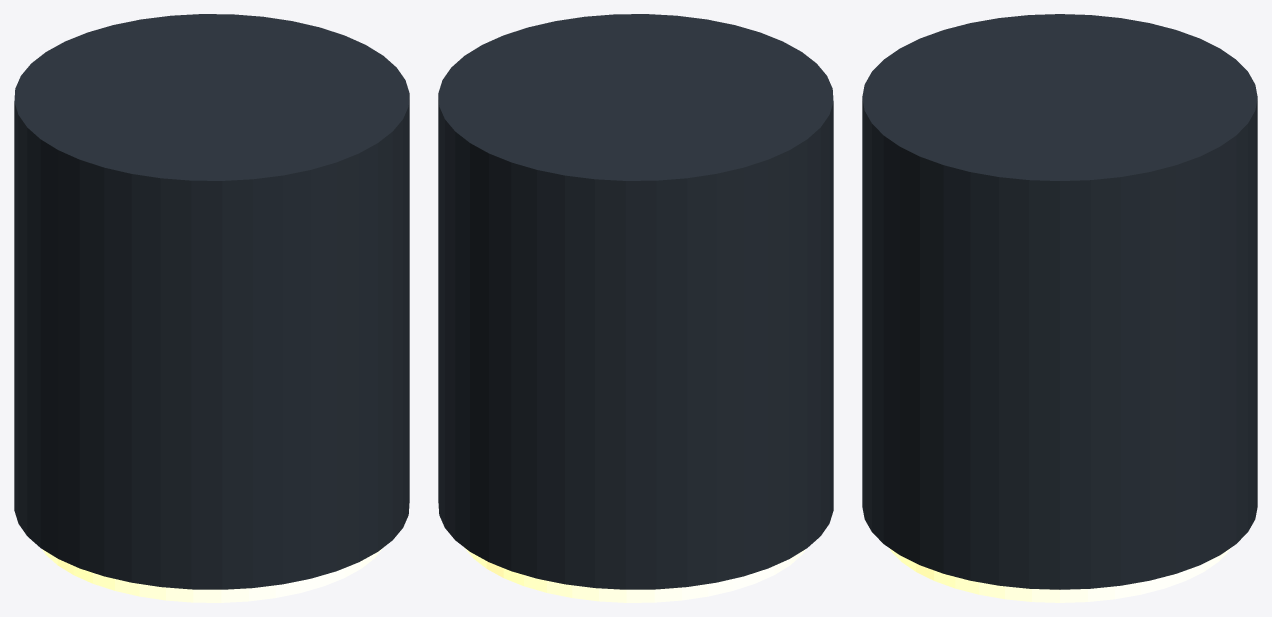
The model's file is 05_surface_spot.glb.
The picture shows the model from 3 angles, left to right: view 1: azimuth 30°, elevation 25°; view 2: azimuth 150°, elevation 25°; view 3: azimuth 270°, elevation 25°; orthographic projection.
Size of the model in its own units: 0.1 by 0.12 by 0.1.
